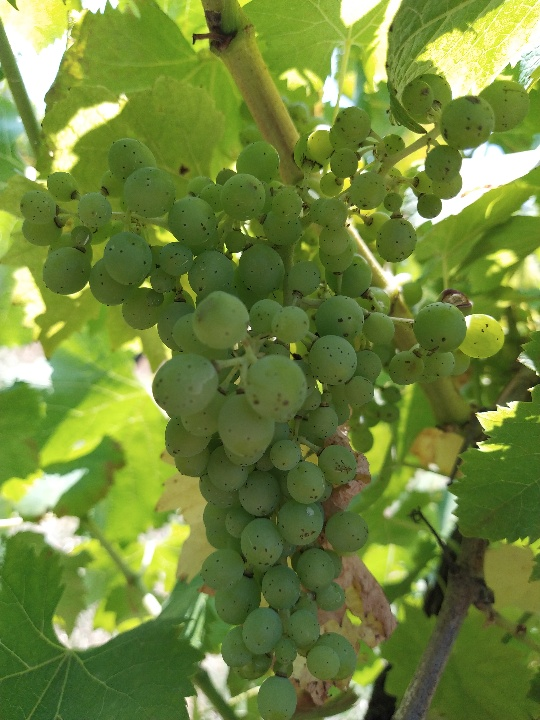grape: (20, 75, 529, 716)
